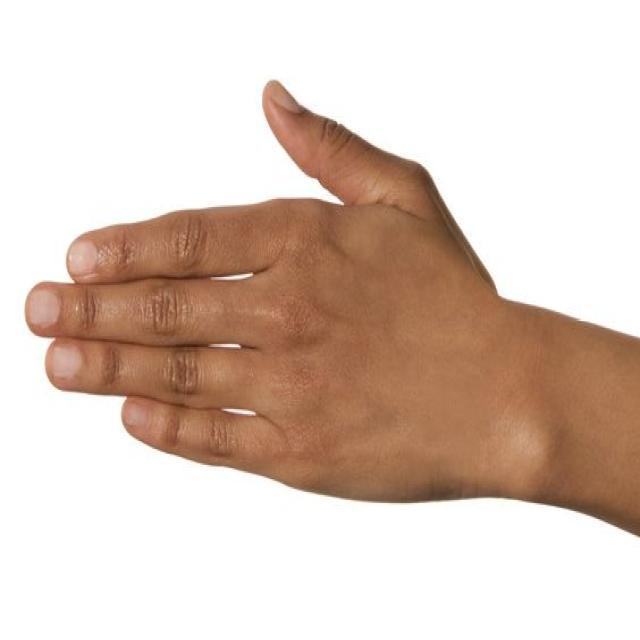Fingernail: (51, 343, 86, 380), (29, 292, 60, 329), (272, 85, 307, 115), (69, 243, 96, 280), (123, 402, 147, 430)
